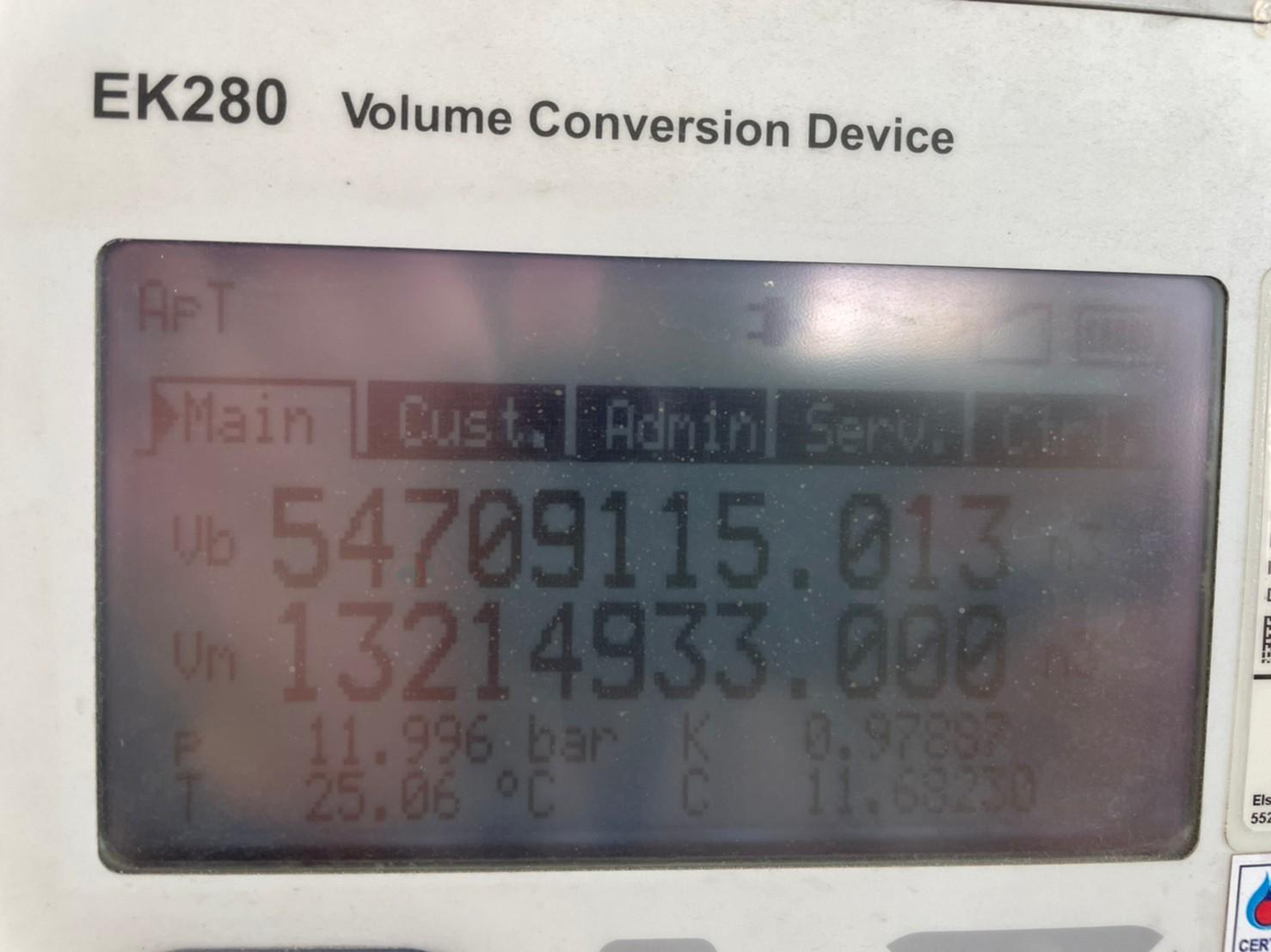digital_screen: (103, 240, 1228, 866)
